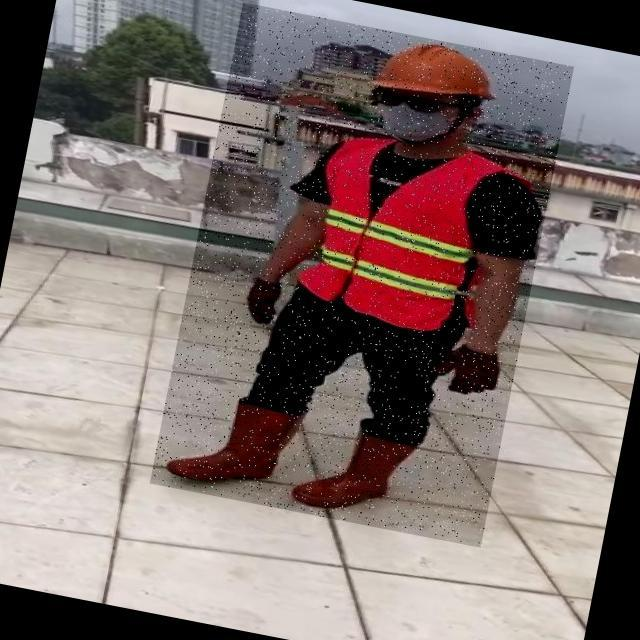Helmet: (366, 32, 509, 115)
Human: (150, 3, 574, 548)
Safety Boot: (163, 388, 304, 500), (294, 414, 411, 521)
Safety Vest: (291, 126, 509, 342)
